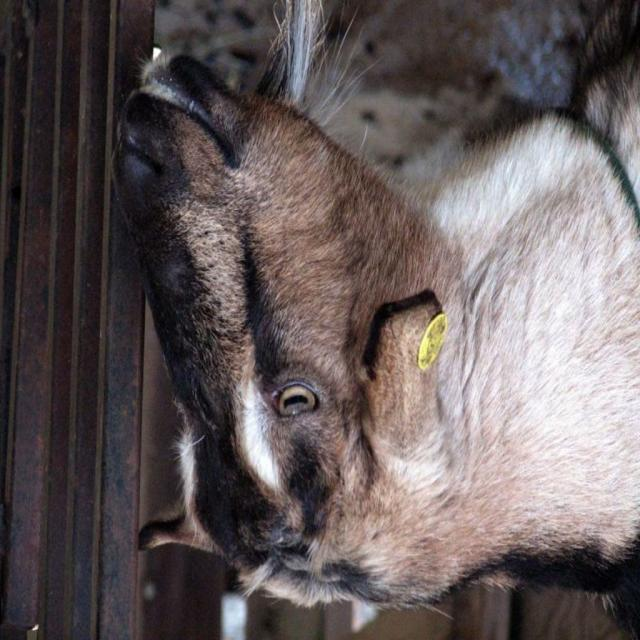Goat: (109, 3, 639, 635)
